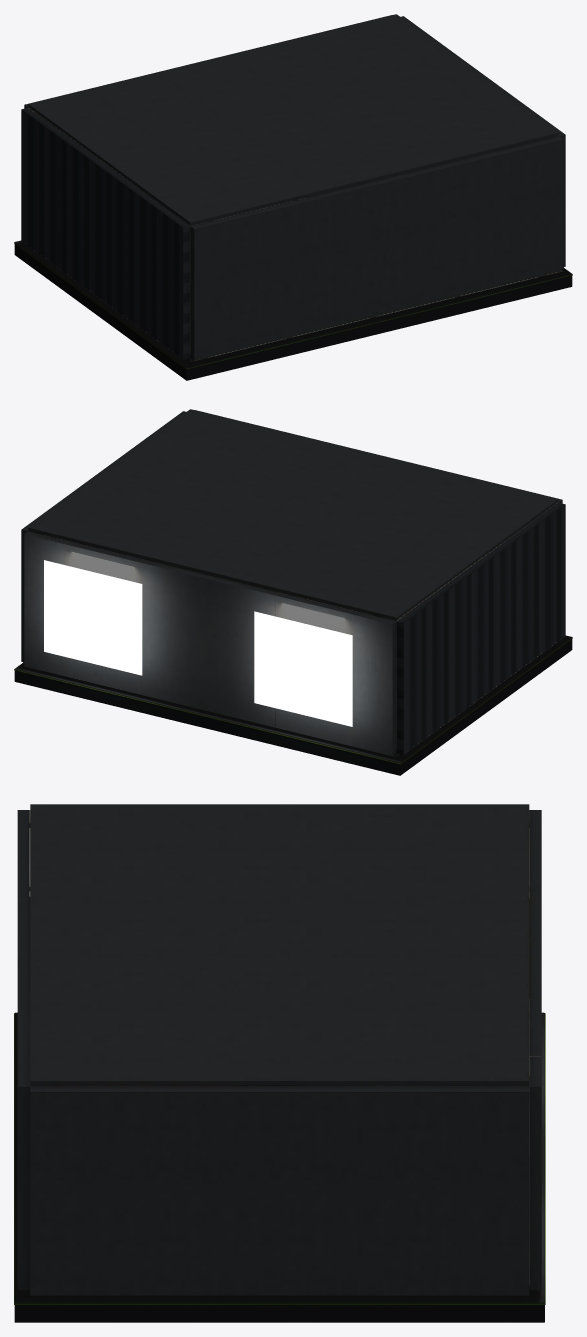
File: lab.glb
3 renders of one model, top to bottom at view 1: azimuth 30°, elevation 25°; view 2: azimuth 150°, elevation 25°; view 3: azimuth 270°, elevation 25°, orthographic. The views are drawn at different scales.
Parts seen in each view (by area): view 1: bake_ceiling, bake_wall_front, bake_wall_left, bake_floor, bake_wall_right; view 2: bake_ceiling, bake_wall_back, bake_wall_left, bake_floor, win_back0_sky, win_back1_sky, bake_wall_right; view 3: bake_ceiling, bake_wall_right, bake_floor, bake_wall_front, bake_wall_back.
Boxes of the visible parts, box(x1,y1,x2,y2) form: bake_ceiling: box(28, 14, 558, 225); bake_wall_front: box(190, 136, 562, 361); bake_wall_left: box(21, 107, 190, 359); bake_floor: box(14, 240, 572, 380); bake_wall_right: box(401, 16, 565, 267); bake_ceiling: box(28, 409, 558, 620); bake_wall_back: box(24, 531, 396, 756); bake_wall_left: box(396, 502, 565, 754); bake_floor: box(14, 635, 572, 775); win_back0_sky: box(254, 611, 352, 726); win_back1_sky: box(44, 560, 142, 675); bake_wall_right: box(21, 411, 185, 662); bake_ceiling: box(30, 804, 529, 1086); bake_wall_right: box(30, 1086, 529, 1295); bake_floor: box(14, 1012, 545, 1322); bake_wall_front: box(17, 810, 30, 1290); bake_wall_back: box(529, 810, 541, 1290).
Bounding box in the file's own units: 11.02 × 4.16 × 8.96.
Materials: 39 (13 with a texture image).
